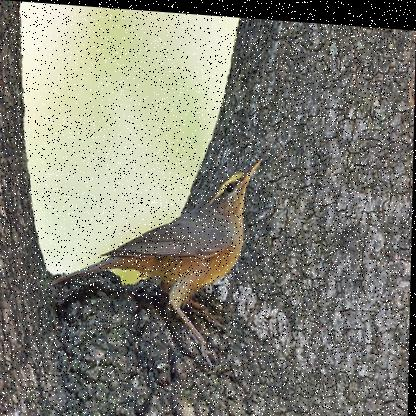Burung: (49, 138, 267, 350)
